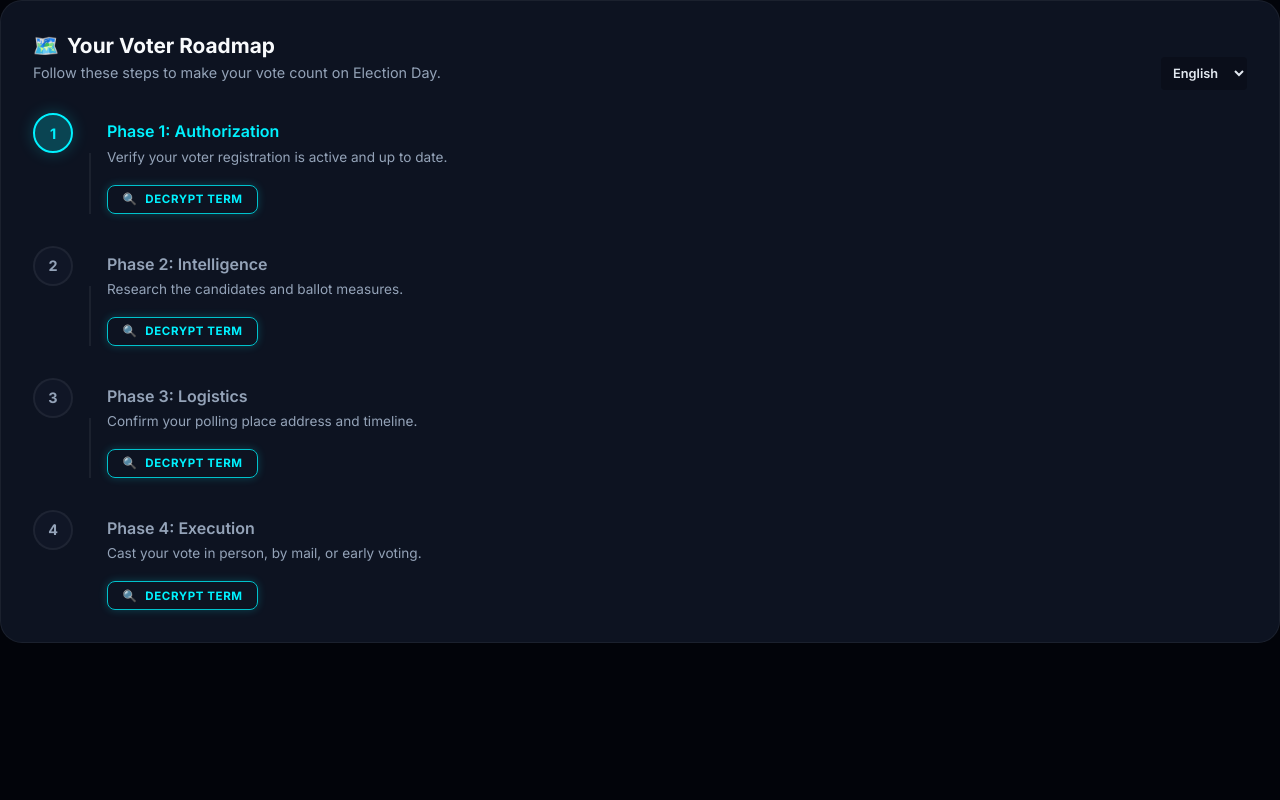
Scenario: RoadmapStepper › shows explanation after successful Decrypt Term fetch
Click the button with test id "decrypt-term-btn" below "Phase 1: Authorization": [182, 199] box [107,185,258,214]
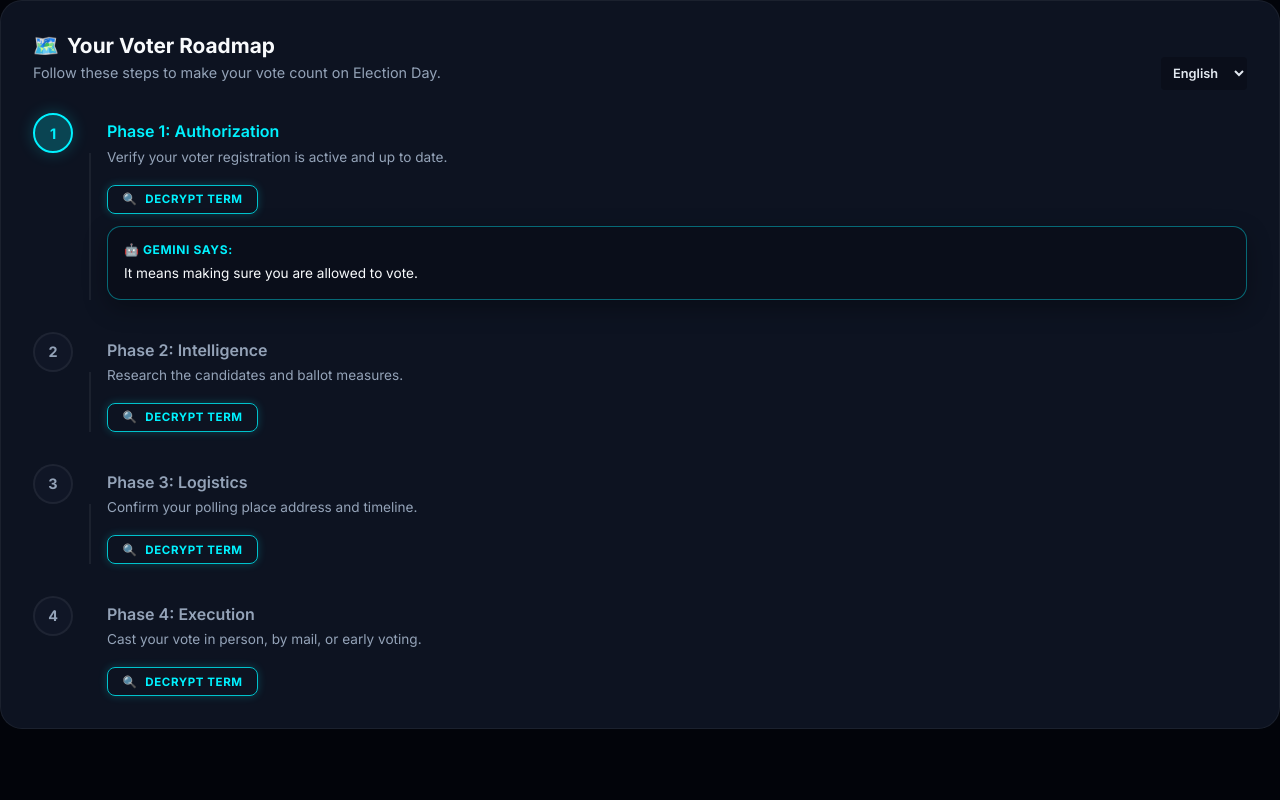
expect the text "🤖 Gemini says: It means making sure you are allowed to vote." is shown: met, box [107,226,1247,300]
